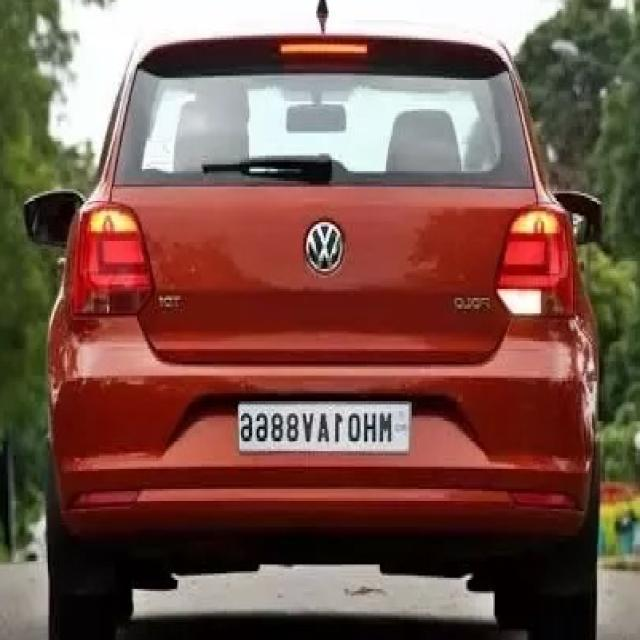number-plate: (217, 390, 412, 460)
